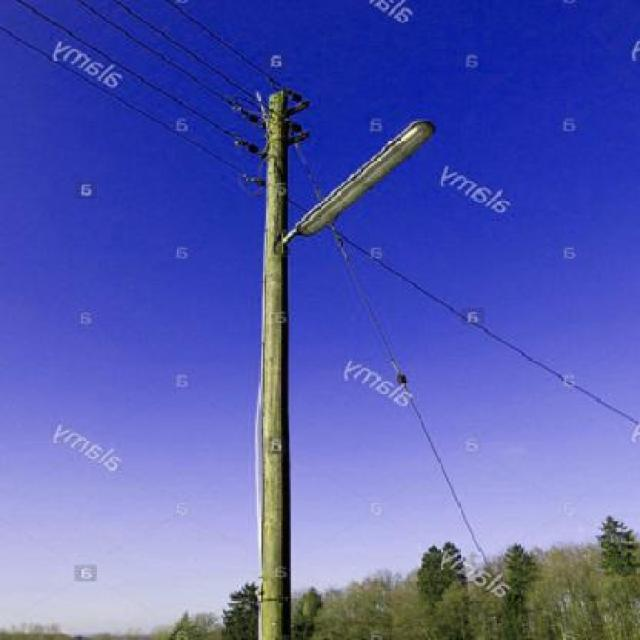light_pole: (243, 89, 313, 640)
